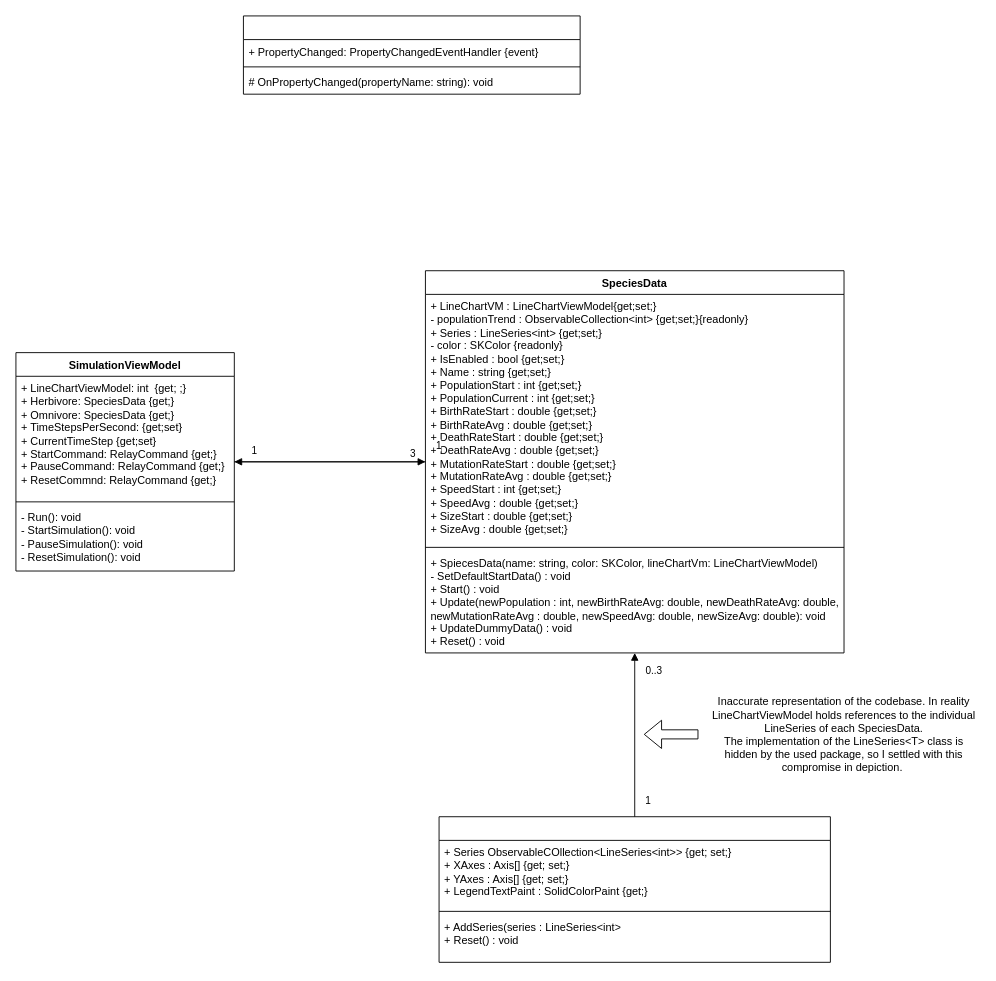
Some shapes in this 996 by 981 pixel diagram are drawn without their labels. Each missing label, with the box of its shape:
LineChartViewModel: (438, 816, 830, 962)
PropertyChangedBase{abstract}: (243, 15, 580, 94)
